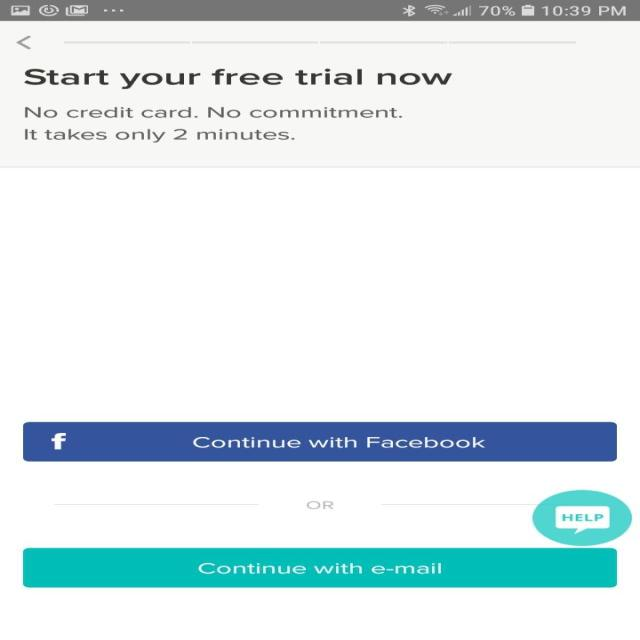Icon: (532, 489, 632, 546), (15, 36, 32, 50)
Text: (24, 106, 403, 143), (23, 68, 453, 89), (306, 500, 334, 509)
TextButton: (22, 548, 617, 588), (23, 422, 616, 462)
